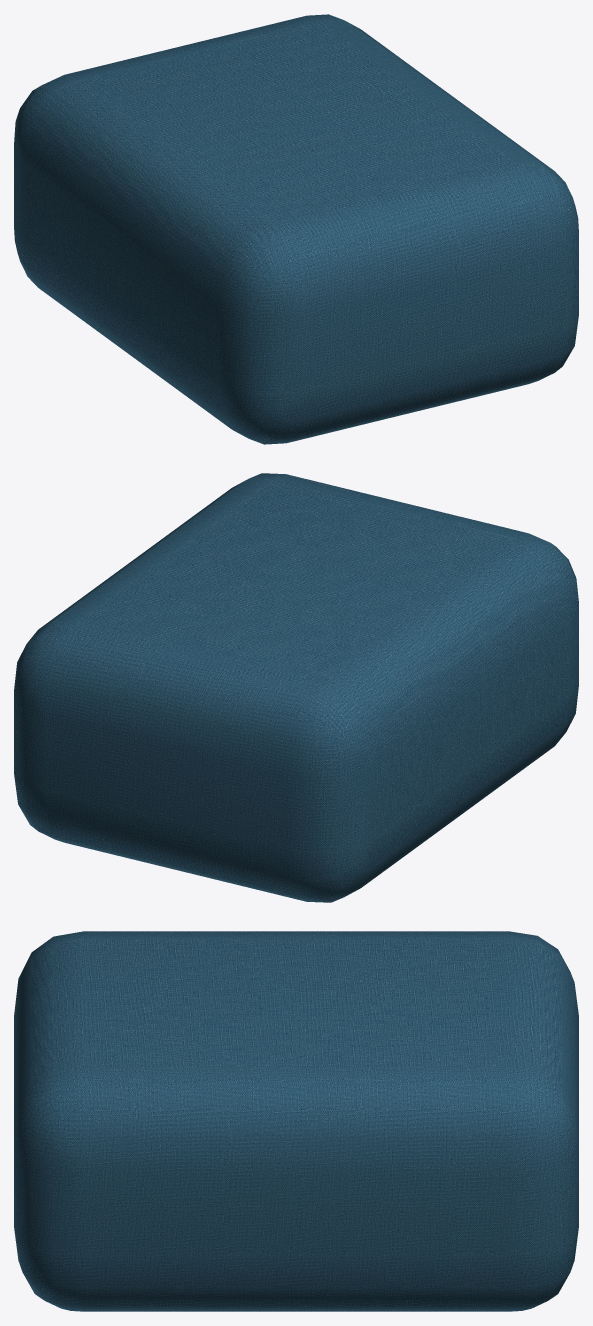
File: SM_咨询室_沙发组件_003.fbx
The picture shows the model from 3 angles, top to bottom: view 1: azimuth 30°, elevation 25°; view 2: azimuth 150°, elevation 25°; view 3: azimuth 270°, elevation 25°; orthographic projection. The views are drawn at different scales.
Visible parts, largest first — view 1: SM_咨询室_沙发组件_003; view 2: SM_咨询室_沙发组件_003; view 3: SM_咨询室_沙发组件_003.
Boxes of the visible parts, x1=… form: SM_咨询室_沙发组件_003: x1=14, y1=14, x2=578, y2=444; SM_咨询室_沙发组件_003: x1=14, y1=473, x2=578, y2=902; SM_咨询室_沙发组件_003: x1=14, y1=931, x2=578, y2=1311.
Bounding box in the file's own units: 976 × 573 × 1246.
